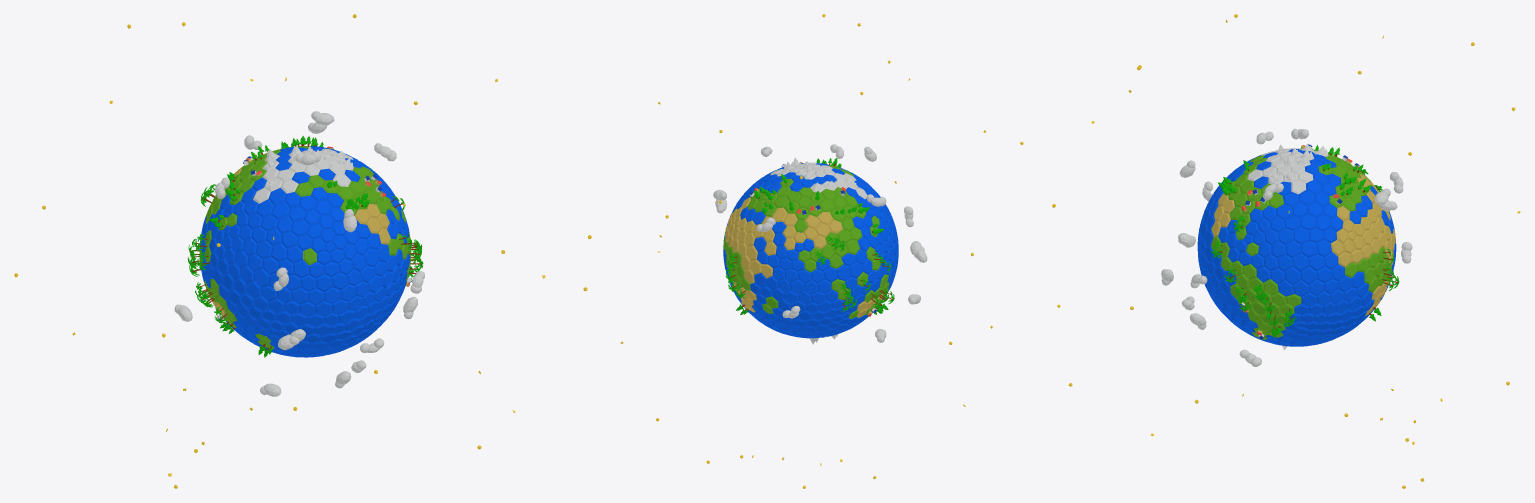
File: earth-transformed.glb
3 renders of one model, left to right at view 1: azimuth 30°, elevation 25°; view 2: azimuth 150°, elevation 25°; view 3: azimuth 270°, elevation 25°, orthographic. The views are drawn at different scales.
Parts seen in each view (by area): view 1: Earth, Clouds and Stars, Earth Details; view 2: Earth, Earth Details, Clouds and Stars; view 3: Earth, Earth Details, Clouds and Stars.
Boxes of the visible parts, box(x1,y1,x2,y2) form: Earth: box(199, 146, 411, 357); Clouds and Stars: box(14, 14, 591, 488); Earth Details: box(187, 136, 423, 357); Earth: box(723, 162, 898, 338); Earth Details: box(725, 157, 894, 344); Clouds and Stars: box(620, 14, 1023, 488); Earth: box(1197, 148, 1396, 346); Earth Details: box(1211, 143, 1399, 350); Clouds and Stars: box(1052, 14, 1520, 488).
Size of the model in its own units: 18.1 by 18.42 by 17.05.
1 material, 1 textured.
